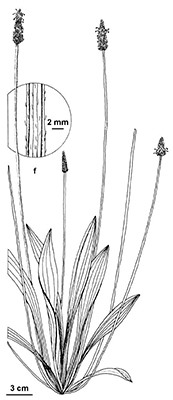buckhorn plantain: (2, 6, 164, 386)
